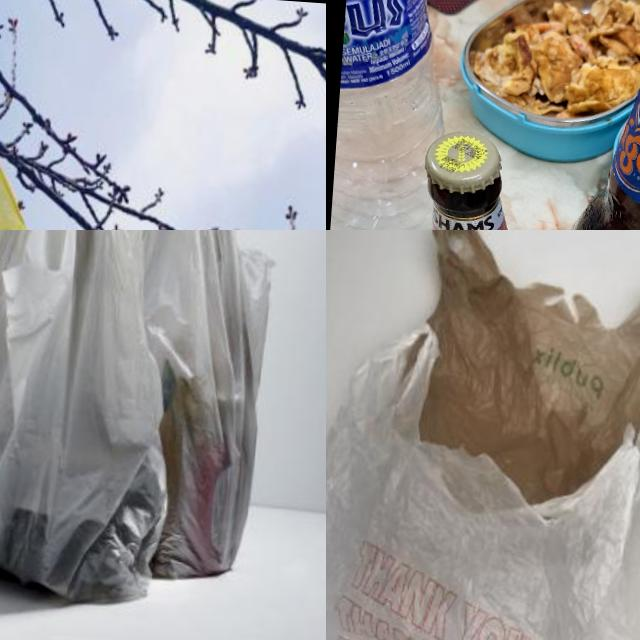garrafa de vidro: (553, 0, 640, 230), (398, 130, 559, 230)
garrafa plástica: (329, 0, 465, 230)
sacola plástica: (326, 322, 640, 640), (0, 230, 199, 612), (112, 230, 293, 602), (412, 230, 640, 514), (0, 33, 92, 230)
